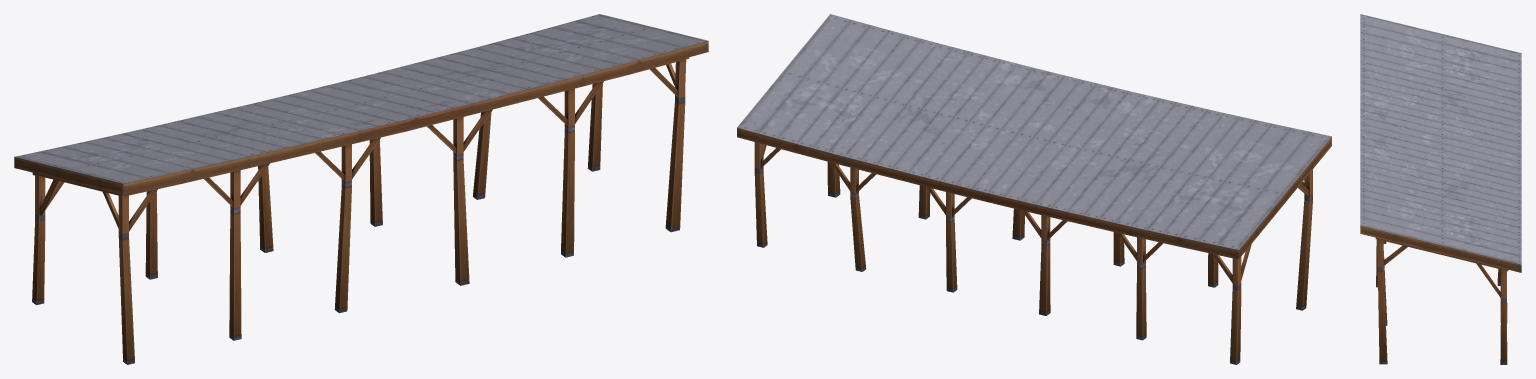
Rendered from Awning01_2.FBX.
3 views of the same model, side by side, from view 1: azimuth 30°, elevation 25°; view 2: azimuth 150°, elevation 25°; view 3: azimuth 270°, elevation 25° (orthographic). The views are drawn at different scales.
Parts seen in each view (by area): view 1: Awning01_2; view 2: Awning01_2; view 3: Awning01_2.
Part boxes in pixels (x1=…): Awning01_2: x1=14, y1=14, x2=708, y2=364; Awning01_2: x1=737, y1=14, x2=1331, y2=364; Awning01_2: x1=1360, y1=14, x2=1521, y2=364.
Size of what is drawn, in the model's own units: 10.5 by 3.35 by 3.38.
